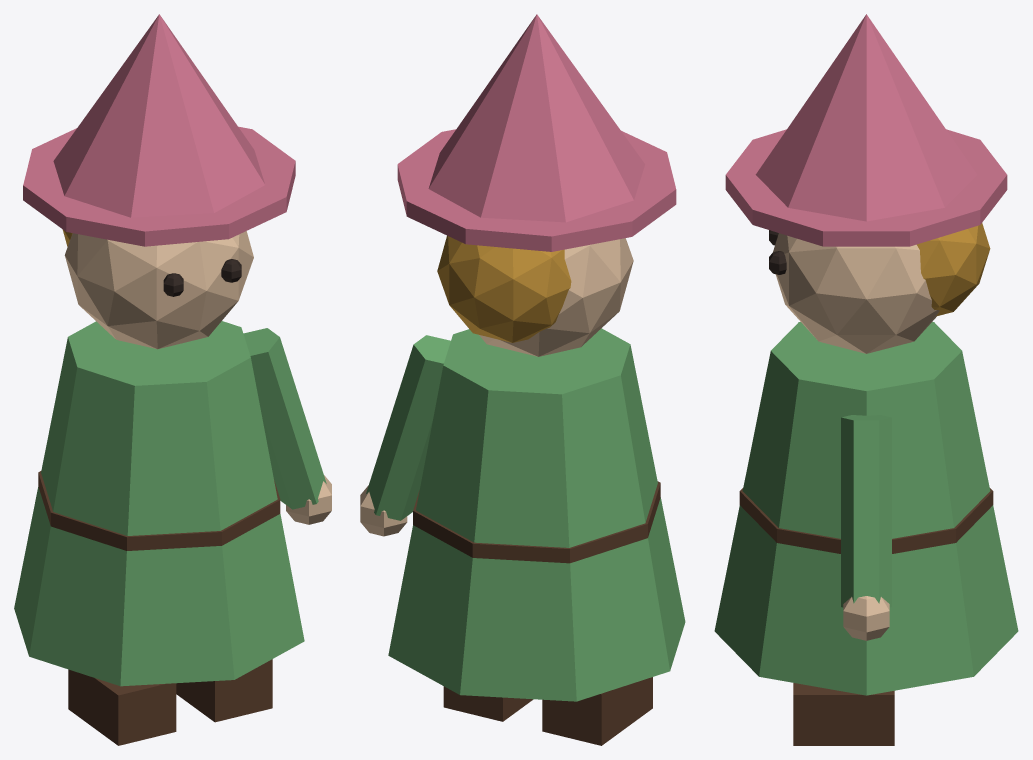
File: villager_3_p.glb
The picture shows the model from 3 angles, left to right: view 1: azimuth 30°, elevation 25°; view 2: azimuth 150°, elevation 25°; view 3: azimuth 270°, elevation 25°; orthographic projection. The views are drawn at different scales.
Parts seen in each view (by area): view 1: villager_3_p; view 2: villager_3_p; view 3: villager_3_p.
Part boxes in pixels (x1=…): villager_3_p: x1=14, y1=14, x2=331, y2=745; villager_3_p: x1=360, y1=14, x2=685, y2=745; villager_3_p: x1=714, y1=14, x2=1018, y2=745.
Size of the model in its own units: 0.5334 by 1.16 by 0.459.
